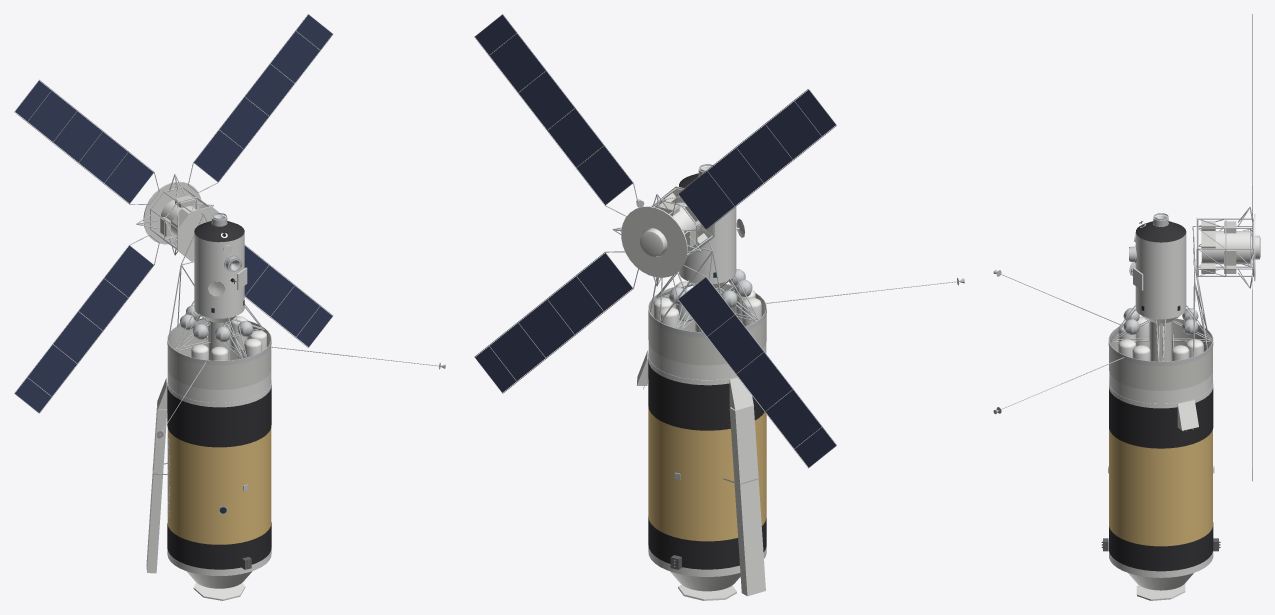
File: workshop.lod2.glb
The picture shows the model from 3 angles, left to right: view 1: azimuth 30°, elevation 25°; view 2: azimuth 150°, elevation 25°; view 3: azimuth 270°, elevation 25°; orthographic projection. The views are drawn at different scales.
Parts seen in each view (by area): view 1: OWS_HabitationWall, OWS_AftSkirtInner, ATM_Wing_3_Cells, ATM_Wing_1_Cells, ATM_Wing_4_Cells, ATM_Wing_2_Cells, FAS_InnerWallAndForwardDome, MDA_EarthObservationKit, ATM_Canister, SAS_Wing1_BeamFairing, AM_Bellows, IU_Skin (+11 smaller); view 2: OWS_HabitationWall, ATM_Wing_1_Cells, ATM_Wing_3_Cells, ATM_Wing_2_Cells, ATM_Wing_4_Cells, OWS_AftSkirtInner, SAS_Wing1_BeamFairing, ATM_Canister, FAS_InnerWallAndForwardDome, MDA_EarthObservationKit, AM_Bellows, FAS_OxygenTanks (+10 smaller); view 3: OWS_HabitationWall, OWS_AftSkirtInner, FAS_InnerWallAndForwardDome, MDA_EarthObservationKit, ATM_Canister, FAS_OxygenTanks, AM_Bellows, IU_Skin, ATM_Outriggers, OWS_SkirtBands, OWS_RefrigerationRadiator, ATM_RackEquipment (+6 smaller).
Boxes of the visible parts, x1,y1,x2,y2 form: OWS_HabitationWall: [167, 428, 271, 544]; OWS_AftSkirtInner: [167, 385, 271, 569]; ATM_Wing_3_Cells: [15, 246, 153, 412]; ATM_Wing_1_Cells: [194, 15, 332, 181]; ATM_Wing_4_Cells: [15, 80, 153, 203]; ATM_Wing_2_Cells: [244, 246, 332, 347]; FAS_InnerWallAndForwardDome: [167, 318, 271, 389]; MDA_EarthObservationKit: [194, 232, 247, 301]; ATM_Canister: [143, 181, 221, 261]; SAS_Wing1_BeamFairing: [146, 403, 167, 573]; AM_Bellows: [174, 304, 264, 358]; IU_Skin: [167, 370, 271, 402]; OWS_HabitationWall: [648, 406, 766, 541]; ATM_Wing_1_Cells: [475, 15, 632, 204]; ATM_Wing_3_Cells: [678, 277, 835, 467]; ATM_Wing_2_Cells: [475, 253, 632, 392]; ATM_Wing_4_Cells: [678, 90, 835, 228]; OWS_AftSkirtInner: [648, 361, 766, 569]; SAS_Wing1_BeamFairing: [729, 405, 765, 596]; ATM_Canister: [621, 186, 714, 277]; FAS_InnerWallAndForwardDome: [648, 284, 766, 365]; MDA_EarthObservationKit: [686, 206, 745, 265]; AM_Bellows: [656, 269, 758, 329]; FAS_OxygenTanks: [653, 281, 761, 328]; OWS_HabitationWall: [1109, 429, 1212, 546]; OWS_AftSkirtInner: [1109, 388, 1213, 571]; FAS_InnerWallAndForwardDome: [1109, 318, 1212, 390]; MDA_EarthObservationKit: [1129, 233, 1186, 302]; ATM_Canister: [1196, 214, 1260, 281]; FAS_OxygenTanks: [1118, 316, 1203, 360]; AM_Bellows: [1110, 305, 1211, 361]; IU_Skin: [1109, 371, 1213, 403]; ATM_Outriggers: [1197, 206, 1253, 288]; OWS_SkirtBands: [1109, 384, 1213, 577]; OWS_RefrigerationRadiator: [1128, 573, 1193, 600]; ATM_RackEquipment: [1201, 221, 1236, 273].
Size of the model in its own units: 23.4 by 35.71 by 16.89.
